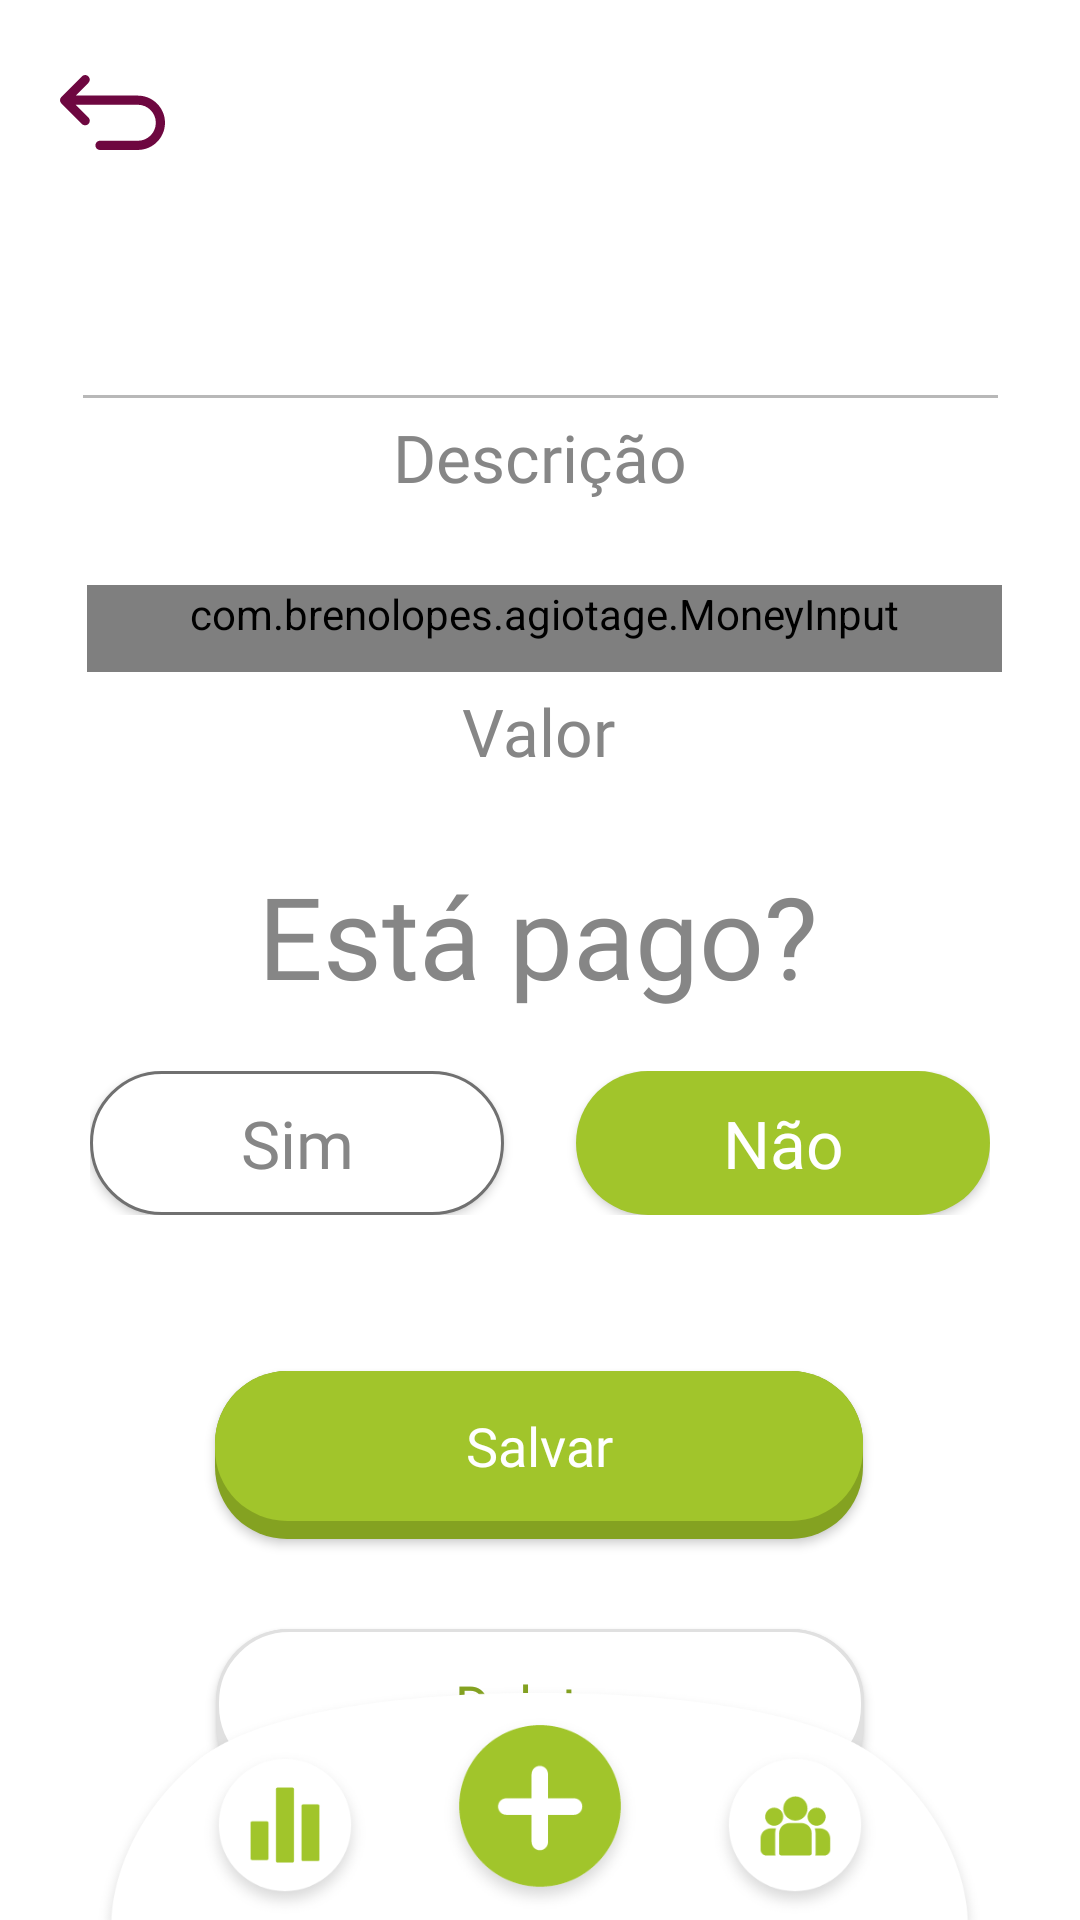

Icon bounding boxes for this 1080w x 1920h phone screenshot, format (x1, y1, x2, y2):
resource return: (60, 75, 165, 150)
